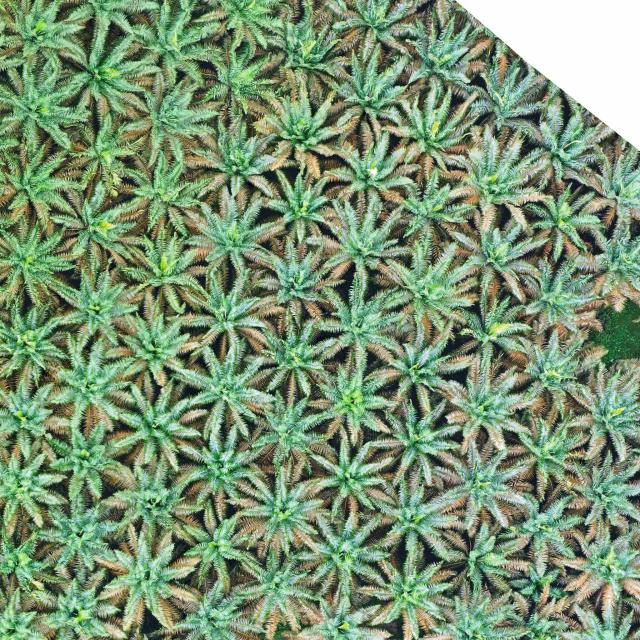Tree: (443, 120, 557, 232), (50, 22, 167, 129), (354, 315, 478, 414), (96, 524, 200, 635), (172, 336, 280, 438), (164, 262, 276, 360), (107, 219, 216, 319), (305, 195, 419, 289), (353, 539, 458, 639), (185, 111, 287, 213), (310, 264, 409, 368), (120, 70, 225, 168), (442, 350, 540, 455), (106, 376, 210, 474), (226, 460, 328, 558), (180, 183, 284, 279), (428, 437, 528, 536), (295, 502, 393, 603), (0, 51, 97, 153), (453, 205, 549, 308), (516, 322, 612, 423), (383, 89, 484, 185), (43, 330, 138, 432), (379, 242, 481, 336), (107, 289, 203, 387), (101, 456, 205, 545), (318, 126, 427, 210), (125, 0, 229, 88), (363, 474, 465, 563), (367, 393, 462, 487), (303, 356, 402, 446), (172, 421, 260, 522), (23, 492, 126, 578), (263, 0, 354, 97), (48, 176, 143, 268), (241, 310, 340, 398), (503, 403, 590, 503), (120, 145, 211, 239), (321, 49, 412, 143), (174, 497, 260, 596), (516, 248, 610, 338), (550, 517, 640, 611), (0, 136, 88, 232), (49, 262, 145, 350), (559, 357, 640, 460), (254, 237, 346, 325), (251, 86, 350, 166), (234, 546, 320, 638), (39, 421, 131, 506), (28, 564, 129, 640), (305, 435, 395, 518), (499, 491, 582, 579), (249, 391, 334, 476), (60, 110, 143, 196), (0, 0, 90, 78), (437, 518, 533, 591), (389, 166, 470, 250), (0, 297, 73, 390), (0, 217, 72, 310), (559, 446, 640, 528), (570, 219, 640, 313), (256, 167, 338, 246), (0, 446, 71, 537), (204, 36, 280, 120), (458, 288, 533, 365), (0, 377, 74, 454), (525, 185, 605, 248)
